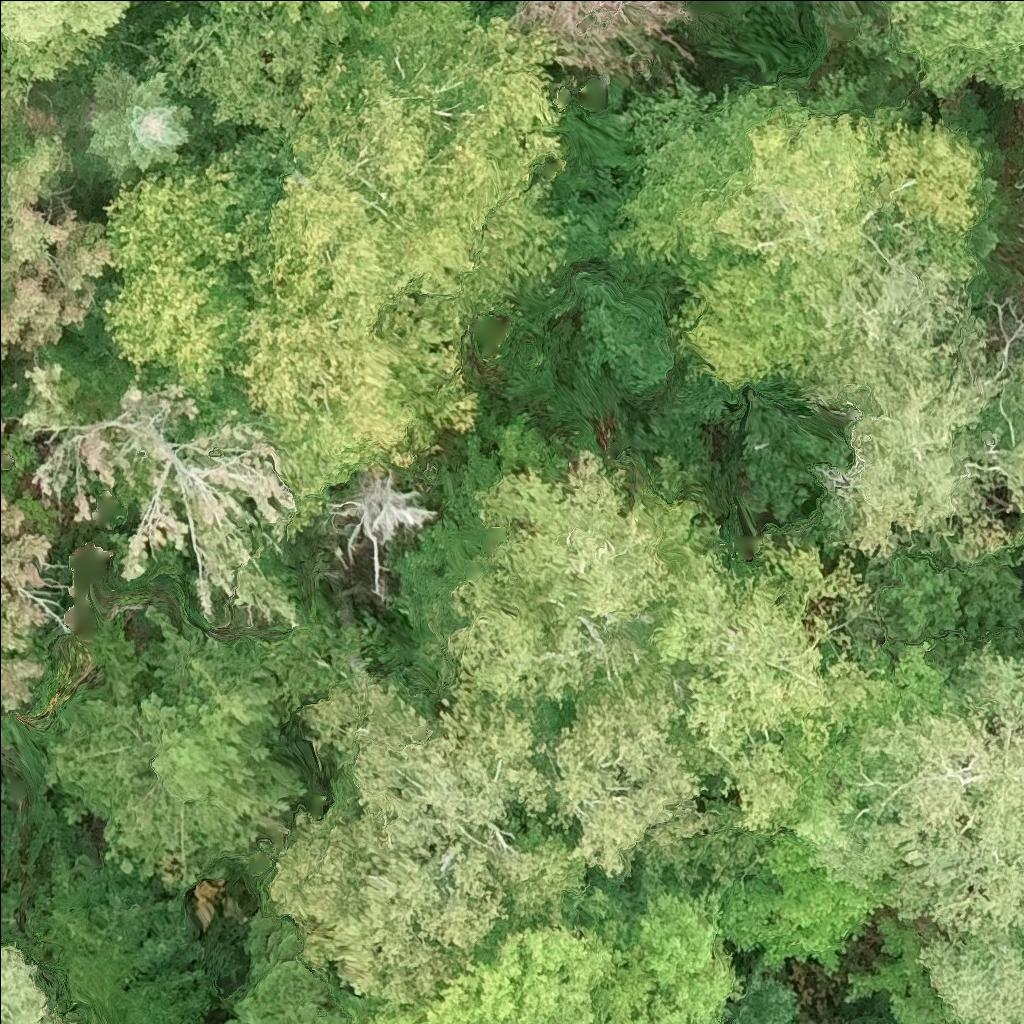crown: (609, 65, 985, 393), (264, 649, 586, 1005), (247, 0, 582, 328), (3, 351, 308, 631), (420, 448, 721, 713), (648, 533, 913, 831), (785, 235, 1015, 567), (221, 265, 481, 542), (793, 639, 1023, 932), (345, 869, 750, 1023), (43, 645, 293, 883), (94, 158, 285, 406), (540, 655, 712, 885), (136, 0, 344, 135), (0, 130, 113, 368), (58, 59, 201, 186), (507, 0, 695, 86), (873, 0, 1023, 103), (0, 0, 139, 107), (0, 488, 56, 717), (917, 914, 1023, 1023), (191, 0, 389, 38), (993, 358, 1023, 570), (0, 416, 10, 441)
